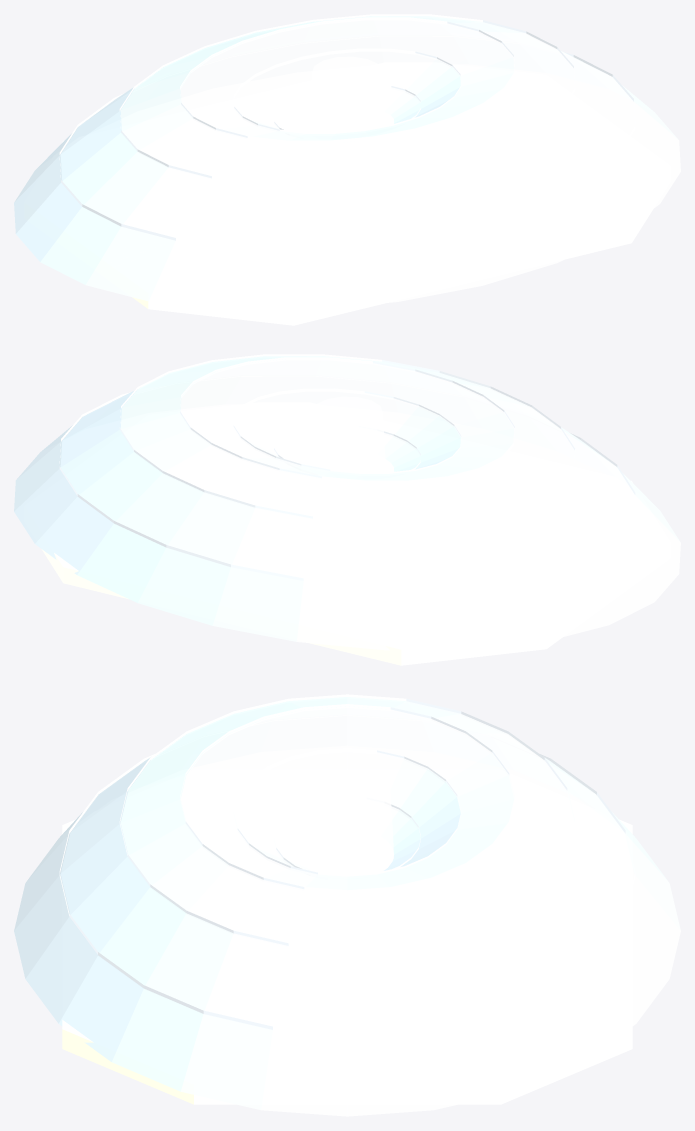
Rendered from jewel-changi.glb.
3 renders of one model, top to bottom at view 1: azimuth 30°, elevation 25°; view 2: azimuth 150°, elevation 25°; view 3: azimuth 270°, elevation 25°, orthographic. The views are drawn at different scales.
Visible parts, largest first — view 1: shell, vortex, floorplate, mullion-2, mullion-1, mullion-3, mullion-4; view 2: shell, vortex, floorplate, mullion-2, mullion-1, mullion-3, mullion-4; view 3: shell, vortex, floorplate, mullion-2, mullion-1, mullion-3, mullion-4.
Part boxes in pixels (<box>): shell: <box>14,16,680,310</box>; vortex: <box>309,56,385,132</box>; floorplate: <box>62,109,653,325</box>; mullion-2: <box>119,14,575,184</box>; mullion-1: <box>59,52,635,248</box>; mullion-3: <box>180,17,514,142</box>; mullion-4: <box>233,48,461,133</box>; shell: <box>14,356,680,650</box>; vortex: <box>309,396,385,472</box>; floorplate: <box>41,449,632,665</box>; mullion-2: <box>119,354,575,524</box>; mullion-1: <box>59,392,635,588</box>; mullion-3: <box>180,357,514,482</box>; mullion-4: <box>233,388,461,473</box>; shell: <box>14,697,680,1116</box>; vortex: <box>301,769,393,874</box>; floorplate: <box>62,819,632,1104</box>; mullion-2: <box>119,694,575,950</box>; mullion-1: <box>59,754,635,1035</box>; mullion-3: <box>180,704,514,892</box>; mullion-4: <box>233,748,461,876</box>.
Size of the model in its own units: 200 by 40 by 152.
